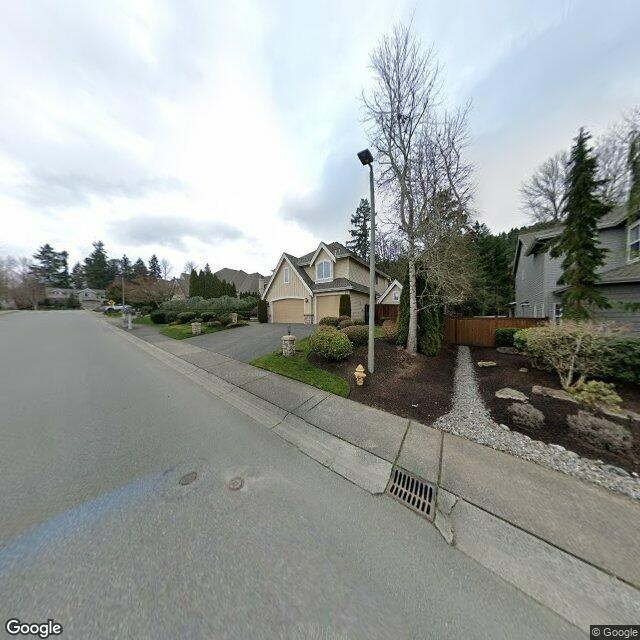hydrant: (348, 362, 369, 386)
